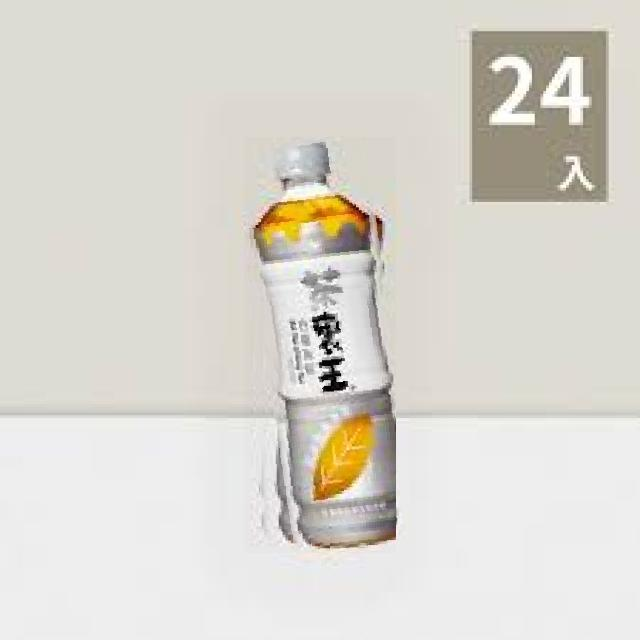ChaLiWong_WhiteOolong: (244, 137, 396, 553)
